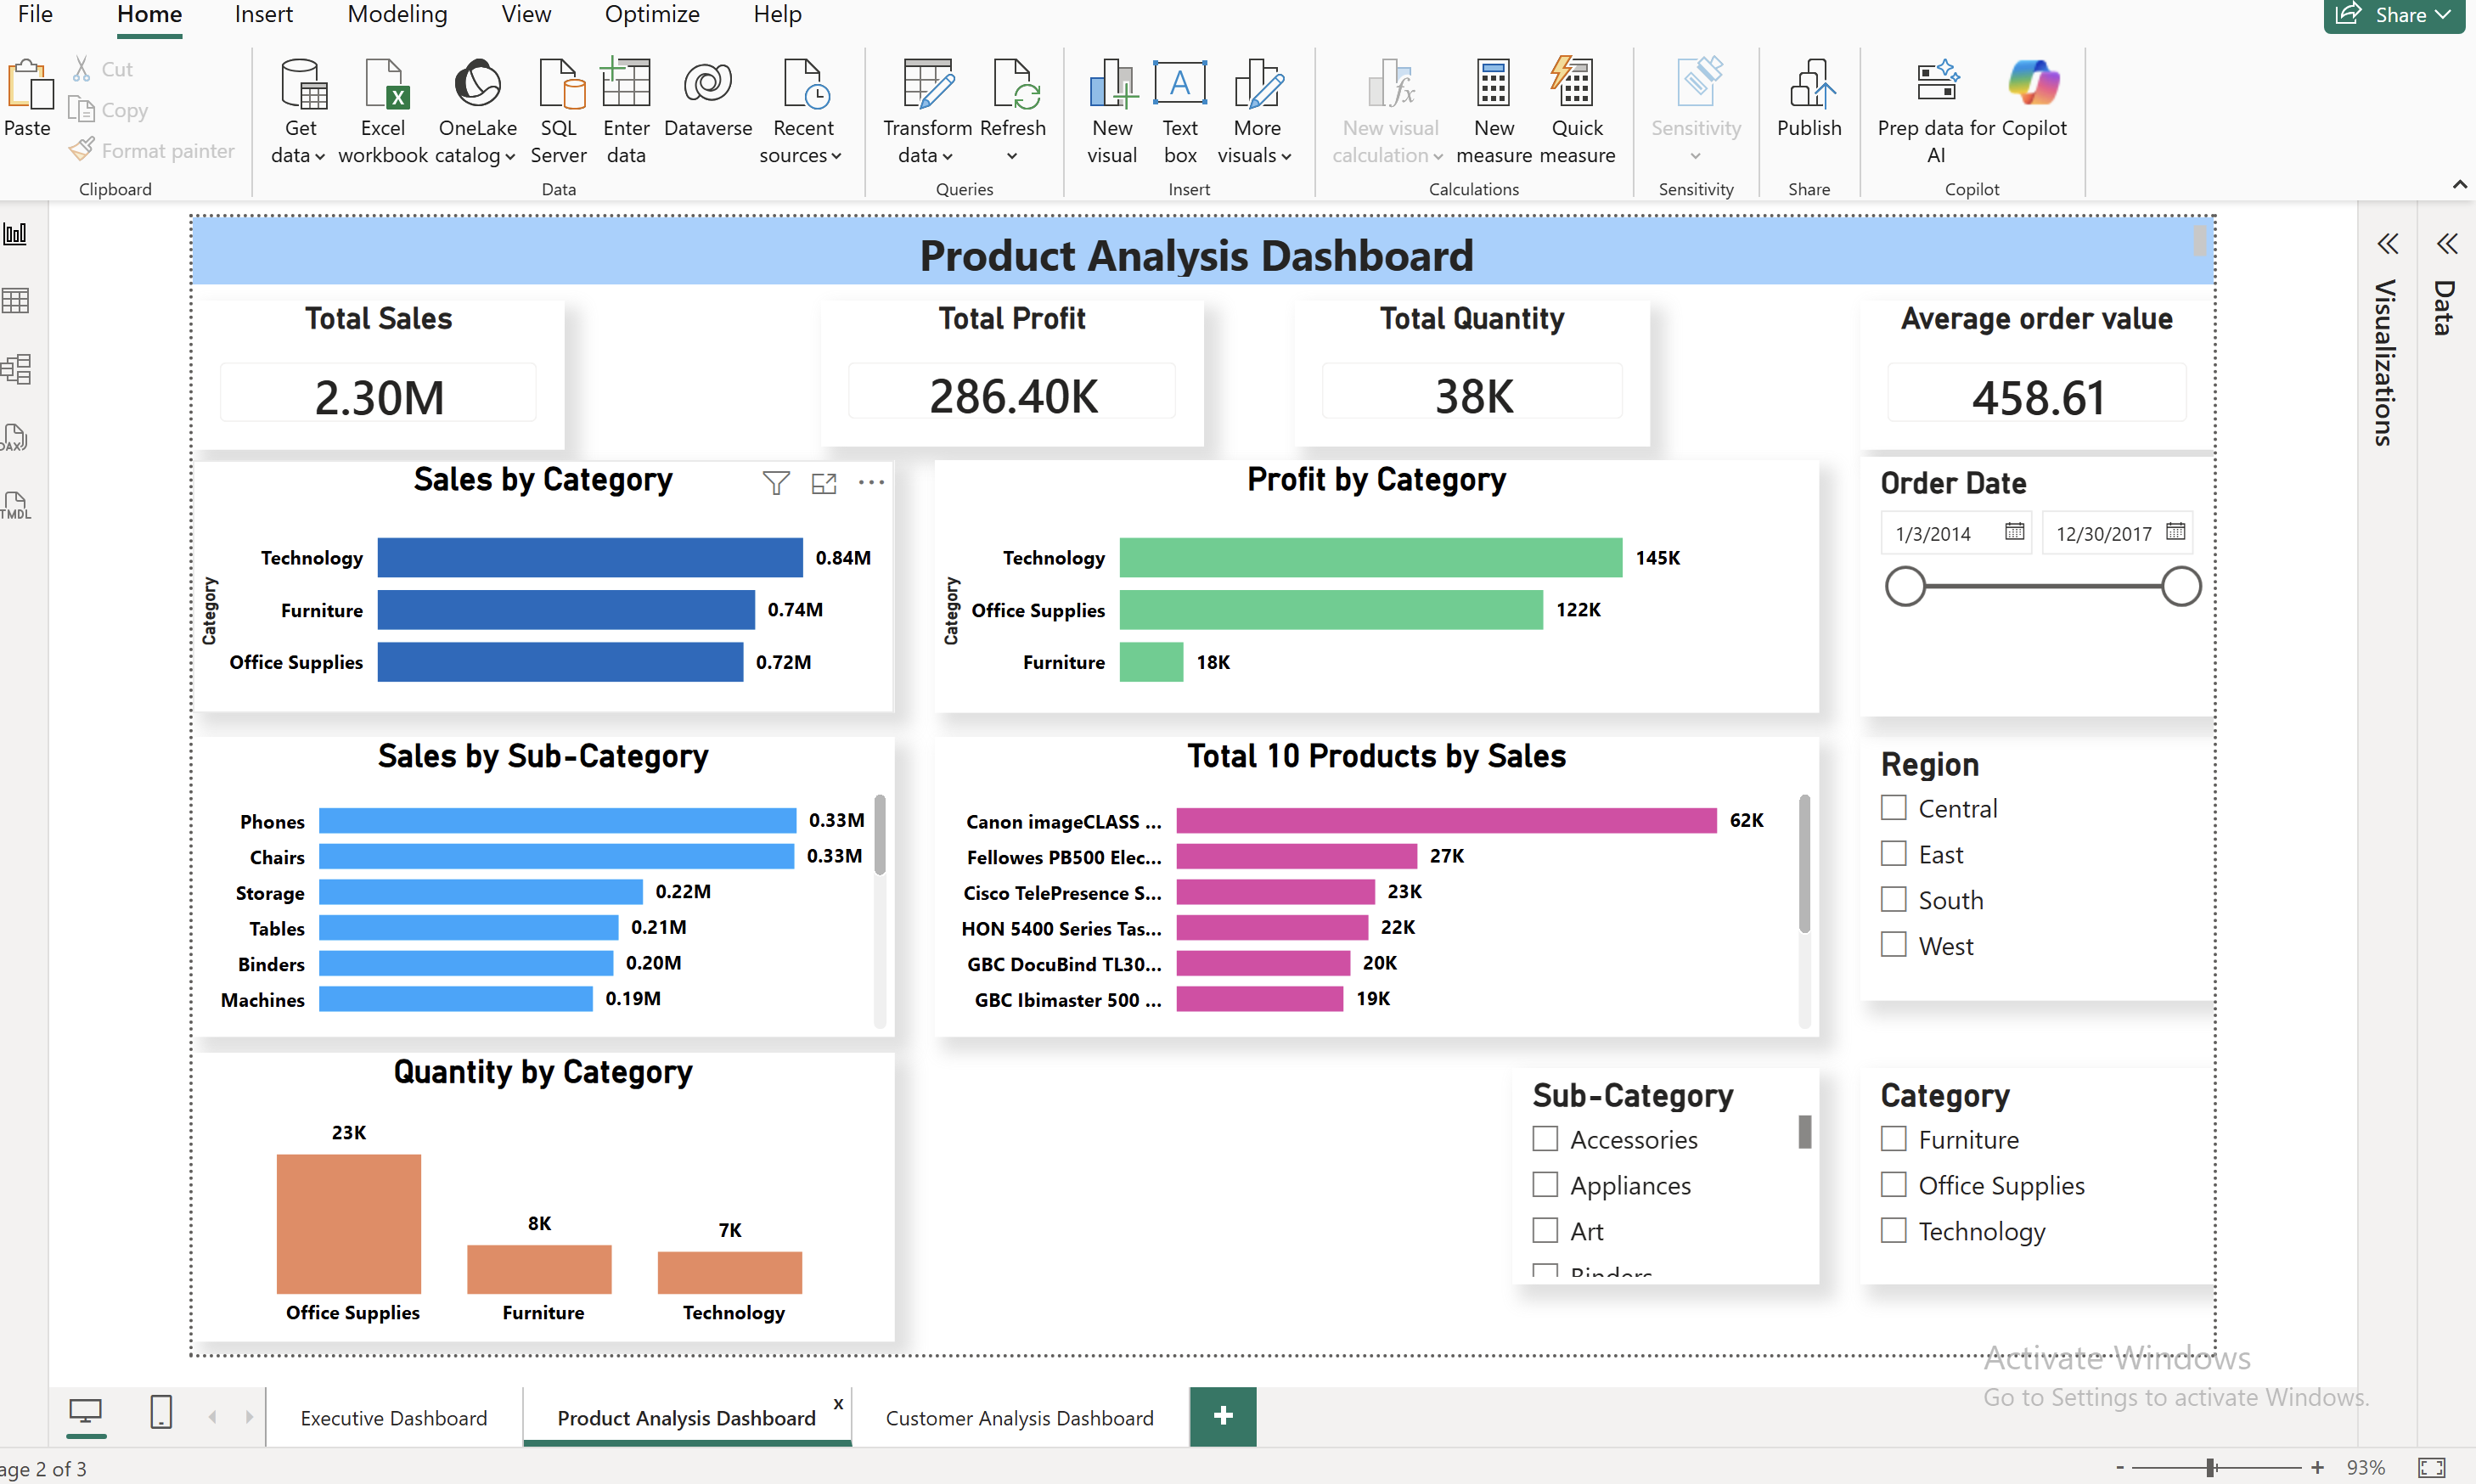

What the dashboard file says about the page in this screenshot:
{"tool":"powerbi","page":{"name":"Product Analysis Dashboard","canvas":[1280,720],"ordinal":1},"visuals":[{"type":"cardVisual","title":"Total Sales","fields":{"Data":["Superstore_dataset.Total Sales"]},"box":[0,52.9,235.7,94.3],"z":0},{"type":"cardVisual","title":"Total Profit","fields":{"Data":["Superstore_dataset.Total Profit"]},"box":[397.5,52.5,242.5,92.5],"z":1000},{"type":"cardVisual","title":"Total Quantity","fields":{"Data":["Superstore_dataset.Total Quantity"]},"box":[697.5,52.5,225,92.5],"z":2000},{"type":"cardVisual","title":"Average order value","fields":{"Data":["Superstore_dataset.Average Order Value"]},"box":[1055.7,52.9,224.3,94.3],"z":3000},{"type":"clusteredBarChart","title":"Sales by Category","fields":{"Category":["Superstore_dataset.Category"],"Y":["Superstore_dataset.Total Sales"]},"box":[0,154.3,444.3,160],"z":4000},{"type":"clusteredBarChart","title":"Profit by Category","fields":{"Category":["Superstore_dataset.Category"],"Y":["Superstore_dataset.Total Profit"]},"box":[470,154.3,560,160],"z":5000},{"type":"clusteredBarChart","title":"Sales by Sub-Category","fields":{"Y":["Superstore_dataset.Total Sales"],"Category":["Superstore_dataset.Sub-Category"]},"box":[0,328.6,444.3,190],"z":6000},{"type":"clusteredBarChart","title":"Total 10 Products by Sales","fields":{"Category":["Superstore_dataset.Product Name"],"Y":["Superstore_dataset.Total Sales"]},"box":[470,328.6,560,190],"z":7000},{"type":"clusteredColumnChart","title":"Quantity by Category","fields":{"Category":["Superstore_dataset.Category"],"Y":["Superstore_dataset.Total Quantity"]},"box":[0,528.6,444.3,182.9],"z":8000},{"type":"slicer","fields":{"Values":["Superstore_dataset.Category"]},"box":[1055.7,538.6,224.3,137.1],"z":9000},{"type":"slicer","fields":{"Values":["Superstore_dataset.Sub-Category"]},"box":[835.7,538.6,194.3,137.1],"z":10000},{"type":"slicer","fields":{"Values":["Superstore_dataset.Region"]},"box":[1055.7,328.6,225.7,167.1],"z":11000},{"type":"slicer","fields":{"Values":["Superstore_dataset.Order Date"]},"box":[1055.7,151.4,224.3,164.3],"z":12000},{"type":"textbox","box":[0,0,1280,42.5],"z":12005}]}

Visuals, with their boxes on the page's 1280x720 design canvas (x1, y1, x2, y2). These are canvas units, not pixel positions in the 2476x1484 screenshot, which may show the page scaled, cropped or inside an application window:
"Total Sales" cardVisual: [0, 53, 236, 147]
"Total Profit" cardVisual: [398, 52, 640, 145]
"Total Quantity" cardVisual: [698, 52, 922, 145]
"Average order value" cardVisual: [1056, 53, 1280, 147]
"Sales by Category" clusteredBarChart: [0, 154, 444, 314]
"Profit by Category" clusteredBarChart: [470, 154, 1030, 314]
"Sales by Sub-Category" clusteredBarChart: [0, 329, 444, 519]
"Total 10 Products by Sales" clusteredBarChart: [470, 329, 1030, 519]
"Quantity by Category" clusteredColumnChart: [0, 529, 444, 712]
slicer - Superstore_dataset.Category: [1056, 539, 1280, 676]
slicer - Superstore_dataset.Sub-Category: [836, 539, 1030, 676]
slicer - Superstore_dataset.Region: [1056, 329, 1281, 496]
slicer - Superstore_dataset.Order Date: [1056, 151, 1280, 316]
textbox: [0, 0, 1280, 42]
